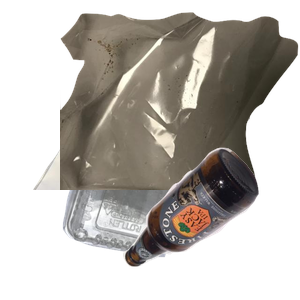glass: (120, 145, 300, 300)
paper: (31, 35, 271, 215)
plastic: (60, 136, 237, 300)
trash: (60, 10, 300, 190)
